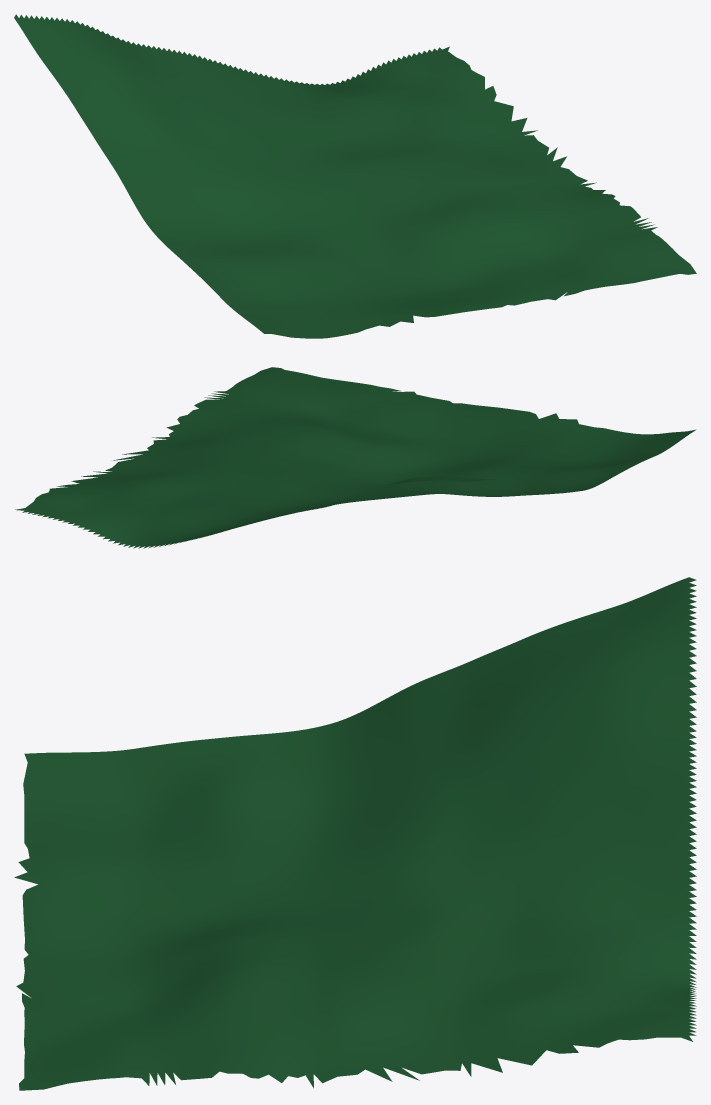
File: payo_land_xm3_y2.glb
3 renders of one model, top to bottom at view 1: azimuth 30°, elevation 25°; view 2: azimuth 150°, elevation 25°; view 3: azimuth 270°, elevation 25°, orthographic. The views are drawn at different scales.
Visible parts, largest first — view 1: payo_land_xm3_y2; view 2: payo_land_xm3_y2; view 3: payo_land_xm3_y2.
Part boxes in pixels (<box>): payo_land_xm3_y2: <box>14,14,696,338</box>; payo_land_xm3_y2: <box>15,367,696,548</box>; payo_land_xm3_y2: <box>14,577,696,1090</box>.
Size of the model in its own units: 261 by 99.35 by 262.
